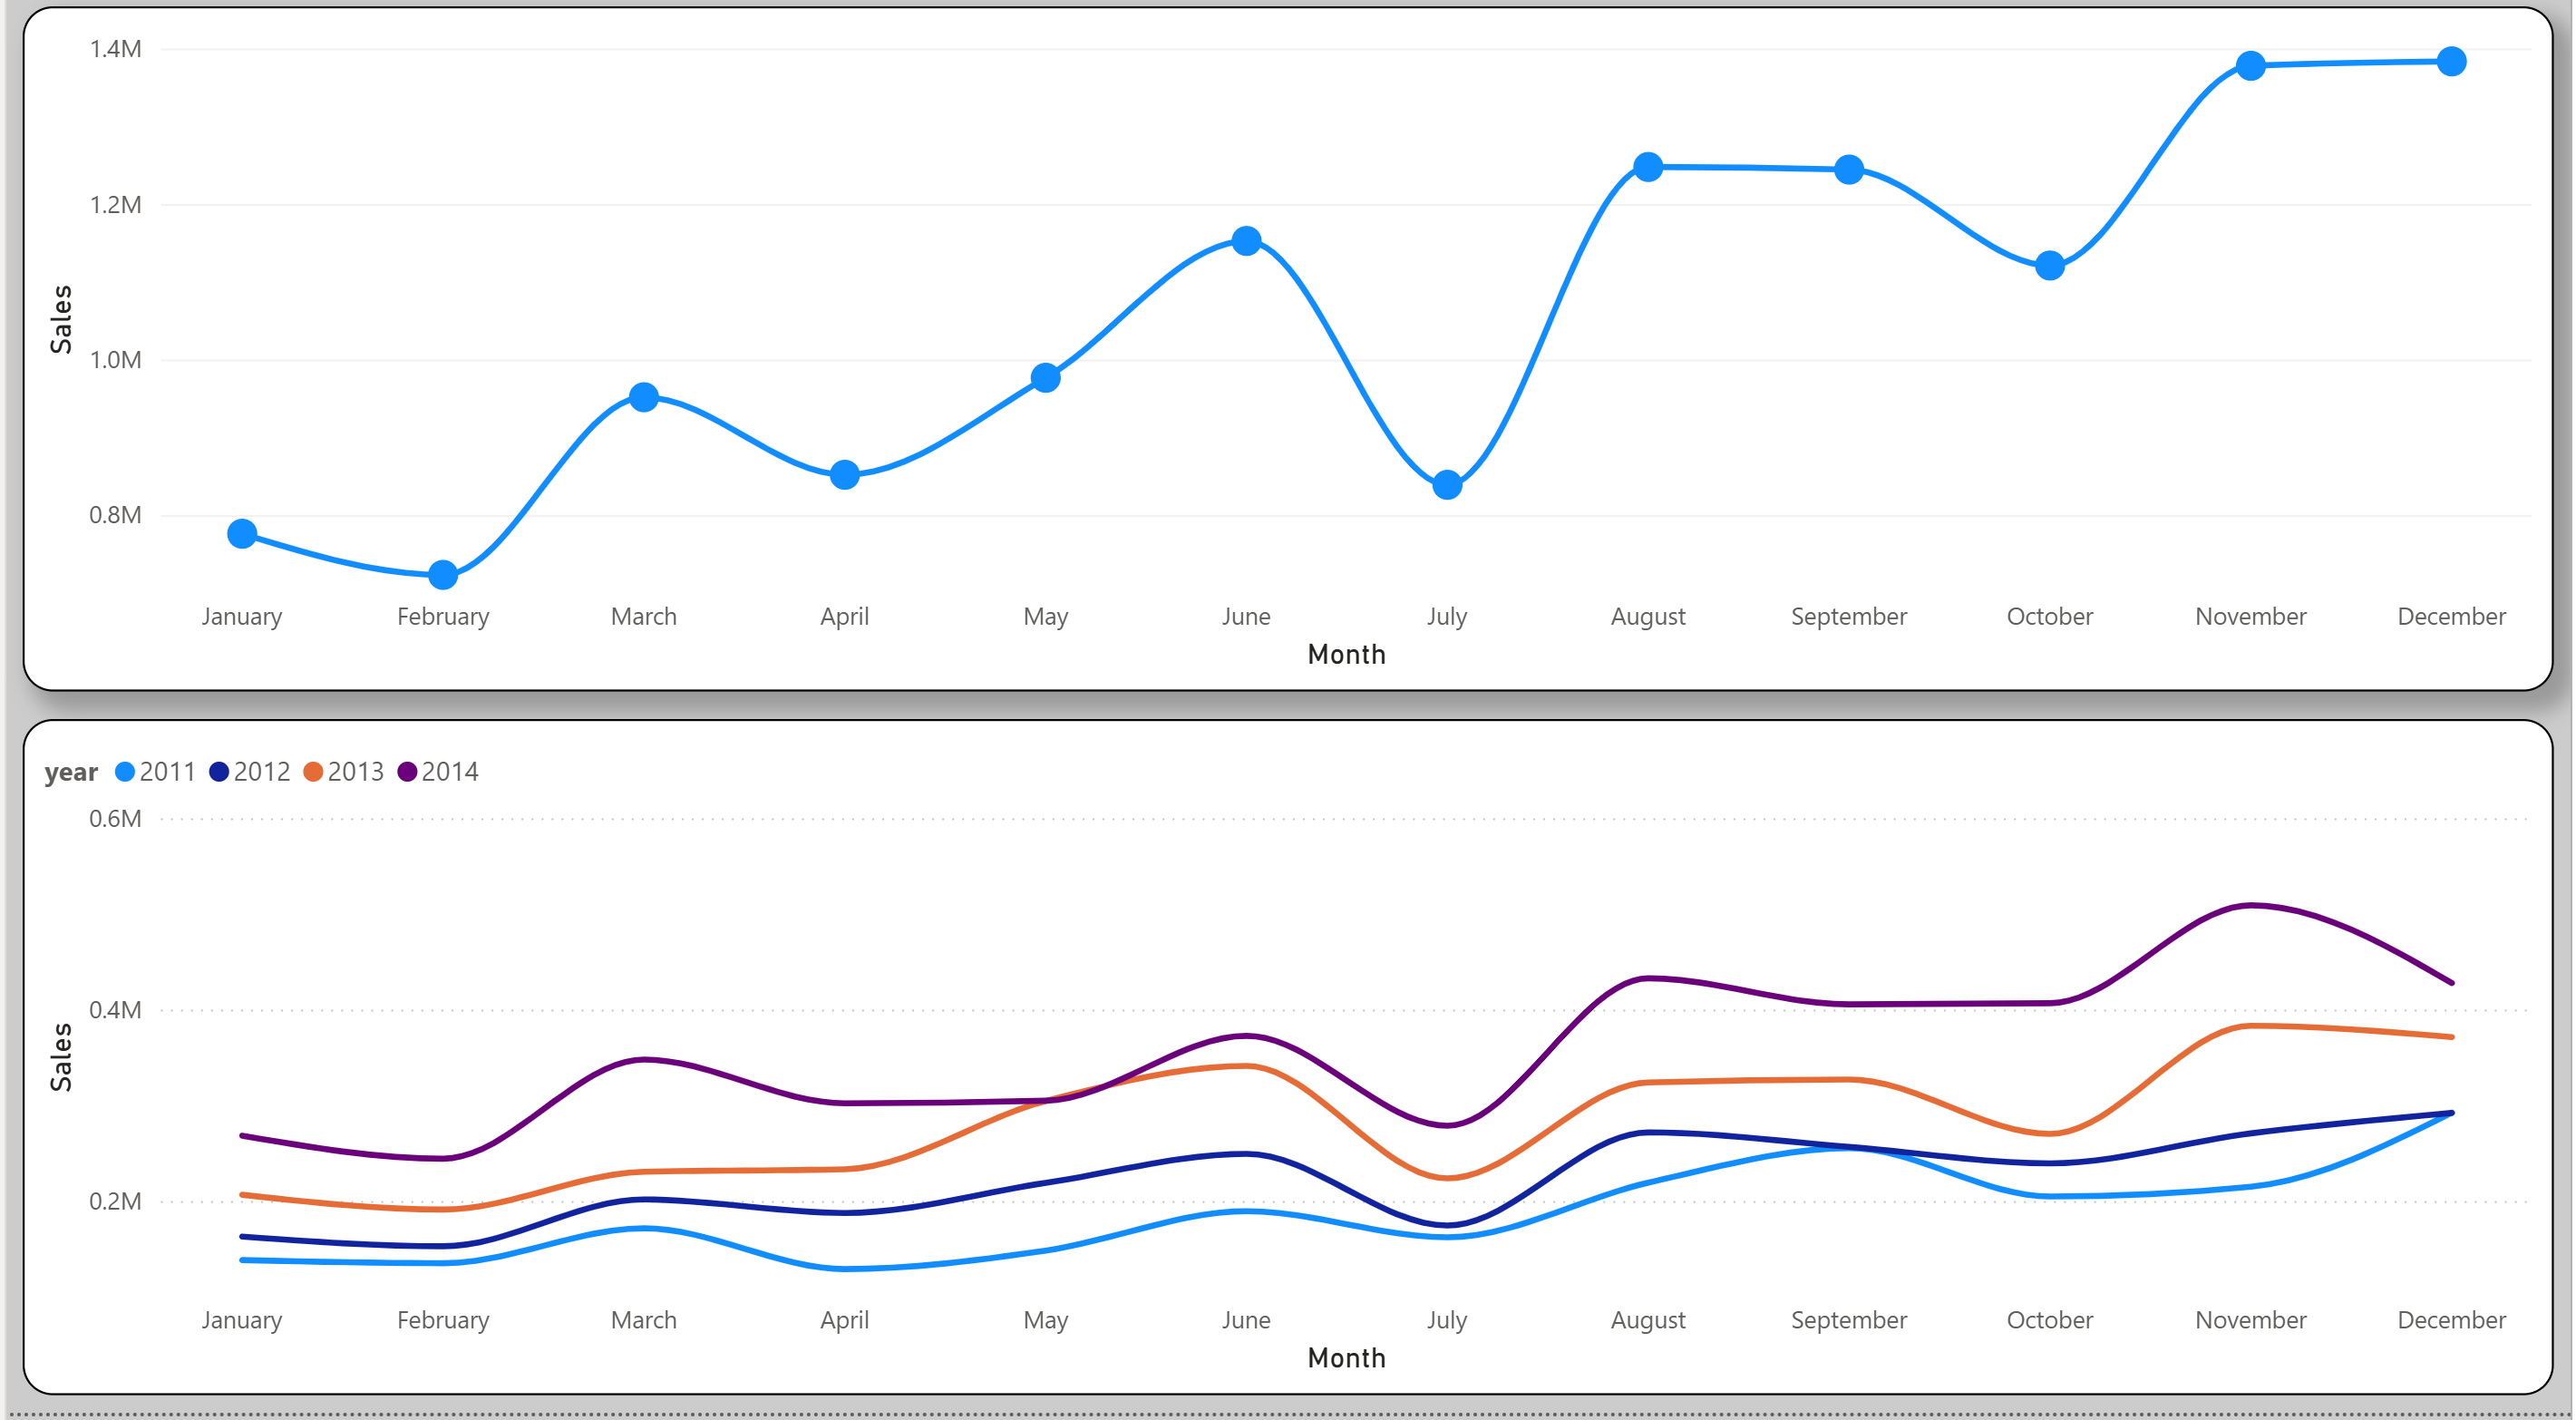

Layout of this report page (visuals, bound fields, positions):
{"tool":"powerbi","page":{"name":"Time Analysis","canvas":[1280,720],"ordinal":3},"visuals":[{"type":"lineChart","fields":{"Y":["Sum(SuperStoreOrders - SuperStoreOr.sales)"],"Category":["SuperStoreOrders - SuperStoreOr.order_date.Variation.Date Hierarchy.Month"]},"box":[8.1,18.1,1263.7,342.2],"z":0},{"type":"lineChart","fields":{"Series":["SuperStoreOrders - SuperStoreOr.year"],"Y":["Sum(SuperStoreOrders - SuperStoreOr.sales)"],"Category":["SuperStoreOrders - SuperStoreOr.order_date.Variation.Date Hierarchy.Month"]},"box":[8.1,373.9,1263.7,337.7],"z":1}]}

Visuals, with their boxes in screenshot pixels (x1, y1, x2, y2), scaled from the page's 1280x720 canvas onto the 2576x1420 screenshot:
lineChart - Sum(SuperStoreOrders - SuperStoreOr.sales) x SuperStoreOrders - SuperStoreOr.order_date.Variation.Date Hierarchy.Month: 16,35,2560,711
lineChart - SuperStoreOrders - SuperStoreOr.year x Sum(SuperStoreOrders - SuperStoreOr.sales): 16,737,2560,1404
